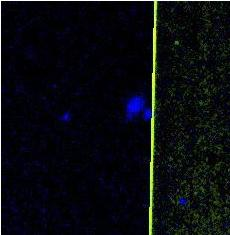star: (164, 30, 194, 60)
